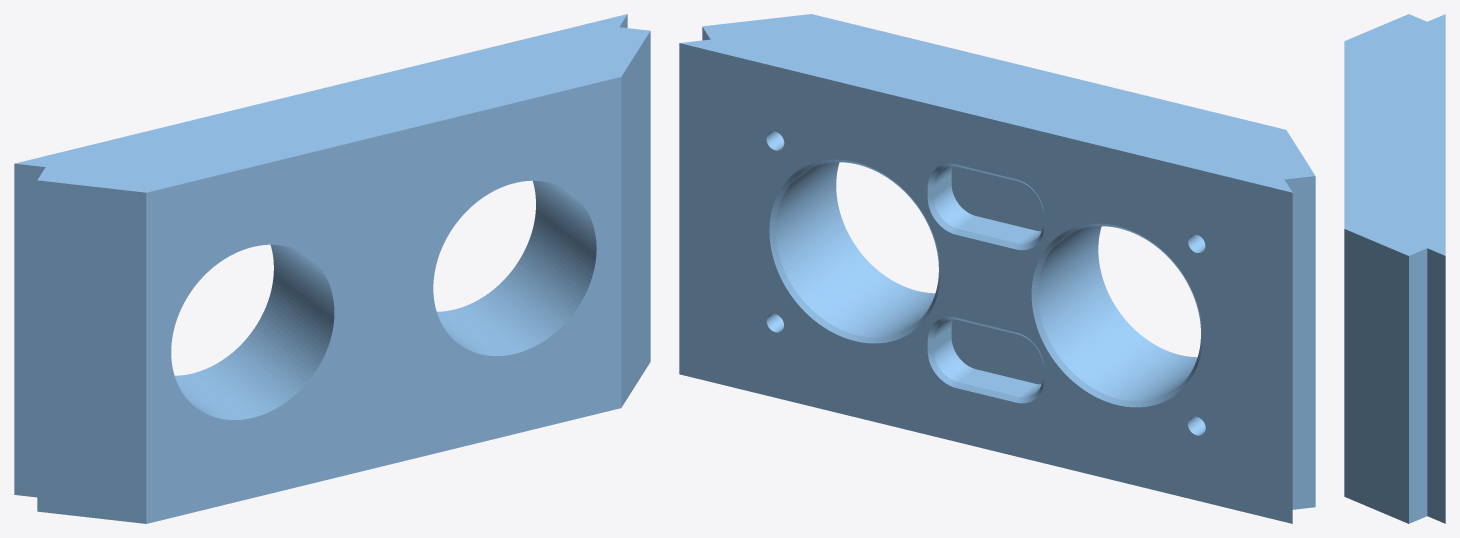
Rendered from Face-ultrasonic.glb.
3 renders of one model, left to right at view 1: azimuth 30°, elevation 25°; view 2: azimuth 150°, elevation 25°; view 3: azimuth 270°, elevation 25°, orthographic. The views are drawn at different scales.
Visible parts, largest first — view 1: Node1; view 2: Node1; view 3: Node1.
Boxes of the visible parts, bbox=[...] form: Node1: bbox=[14, 14, 650, 523]; Node1: bbox=[679, 14, 1315, 523]; Node1: bbox=[1344, 14, 1445, 523].
Size of the model in its own units: 62 by 32 by 11.
